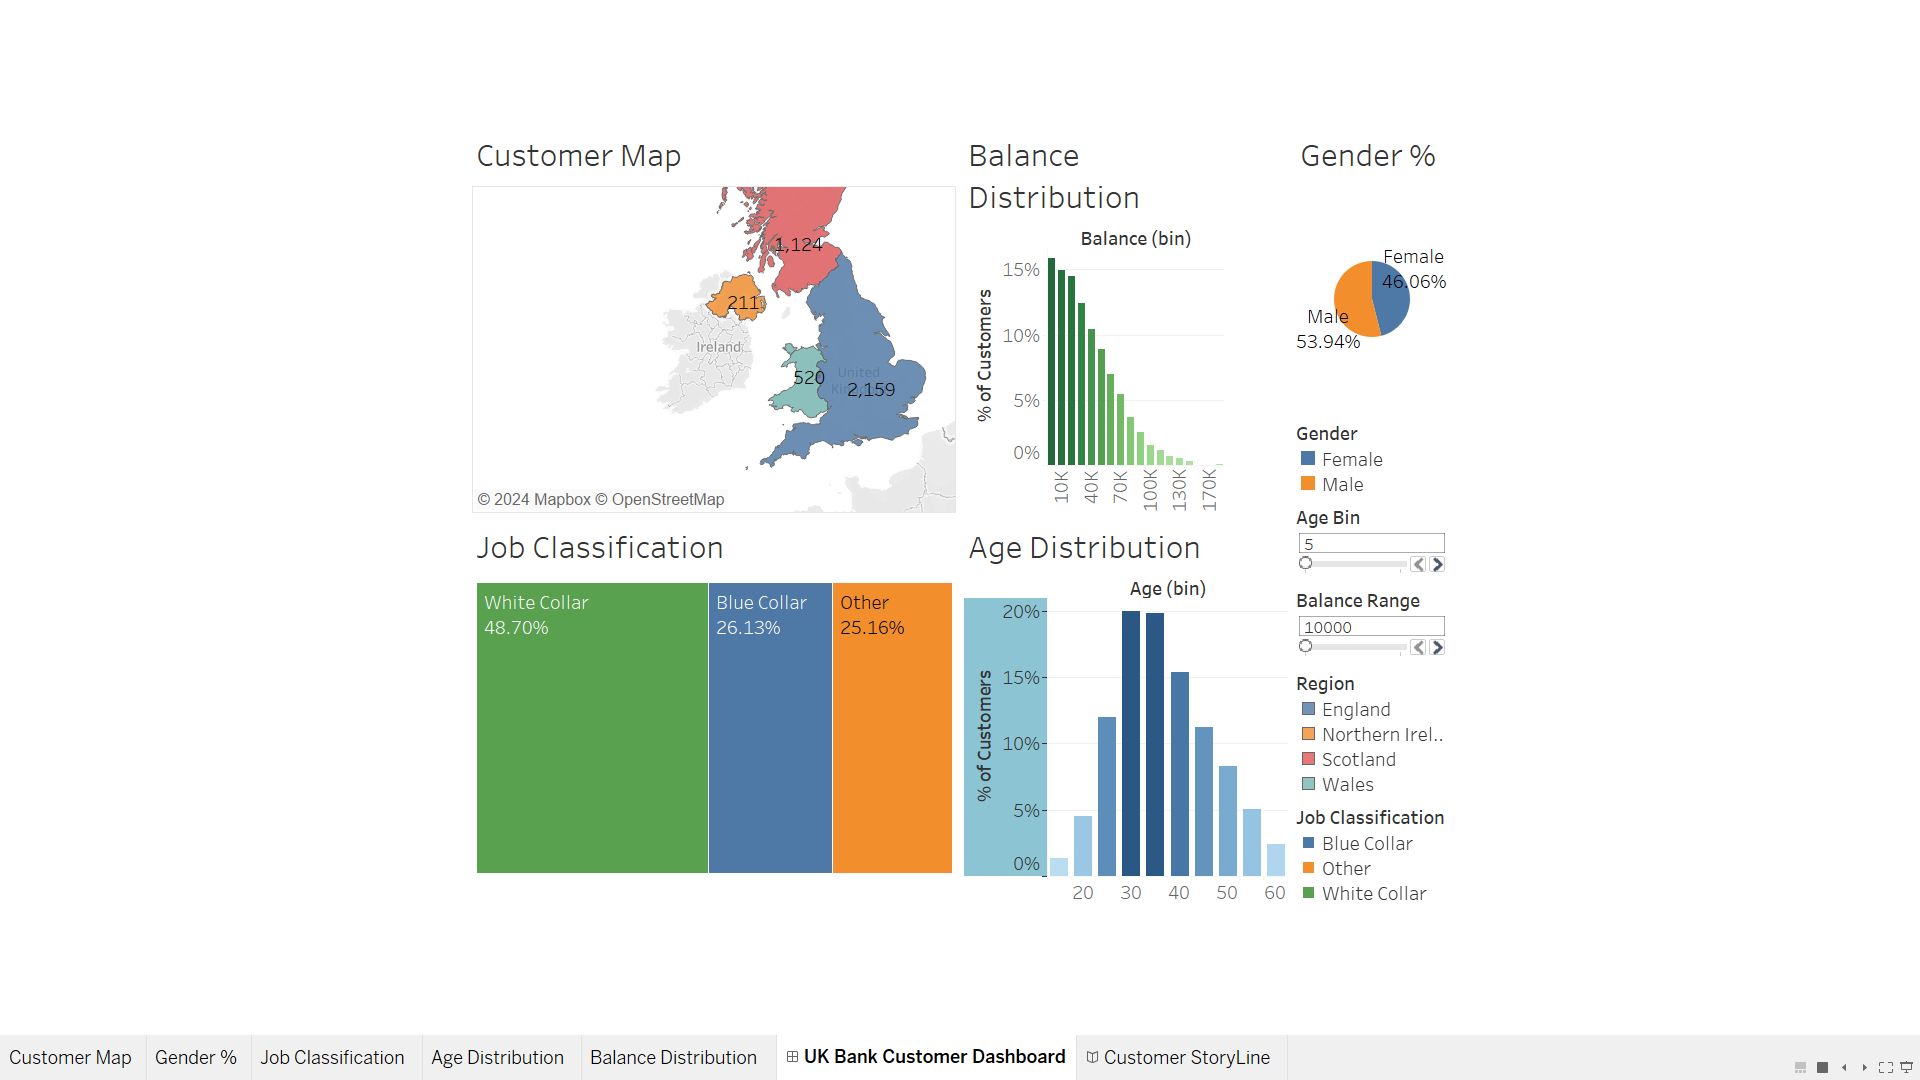

Layout of this report page (visuals, bound fields, positions):
{"tool":"tableau","page":{"name":"Segmentation Dashboard","canvas":[900,700],"ordinal":0},"visuals":[{"type":"worksheet","title":"Map","mark":"Multipolygon","box":[0,0,276,700]},{"type":"worksheet","title":"Distribiution by Balance","mark":"Automatic","rows":["Number of Records"],"cols":["Balance (bin)"],"box":[276,0,386,347]},{"type":"worksheet","title":"Gender","mark":"Pie","box":[662,0,238,271]},{"type":"legend","title":"Map","param":"[textscan.42345.050178518519].[none:Region:nk]","box":[165,37,126,98]},{"type":"parameter","param":"[Parameters].[Parameter 1]","box":[662,271,238,47]},{"type":"worksheet","title":"Distibution by Age","mark":"Automatic","rows":["Number of Records"],"cols":["Age (bin)"],"box":[276,347,386,353]},{"type":"parameter","param":"[Parameters].[Parameter 2]","box":[662,362,238,64]},{"type":"worksheet","title":"Job Classification","mark":"Automatic","box":[662,426,238,258]}]}

Visuals, with their boxes on the page's 900x700 design canvas (x1, y1, x2, y2). These are canvas units, not pixel positions in the 1920x1080 screenshot, which may show the page scaled, cropped or inside an application window:
"Map" worksheet (Multipolygon marks): 0, 0, 276, 700
"Distribiution by Balance" worksheet: 276, 0, 662, 347
"Gender" worksheet (Pie marks): 662, 0, 900, 271
"Map" legend: 165, 37, 291, 135
parameter: 662, 271, 900, 318
"Distibution by Age" worksheet: 276, 347, 662, 700
parameter: 662, 362, 900, 426
"Job Classification" worksheet: 662, 426, 900, 684
